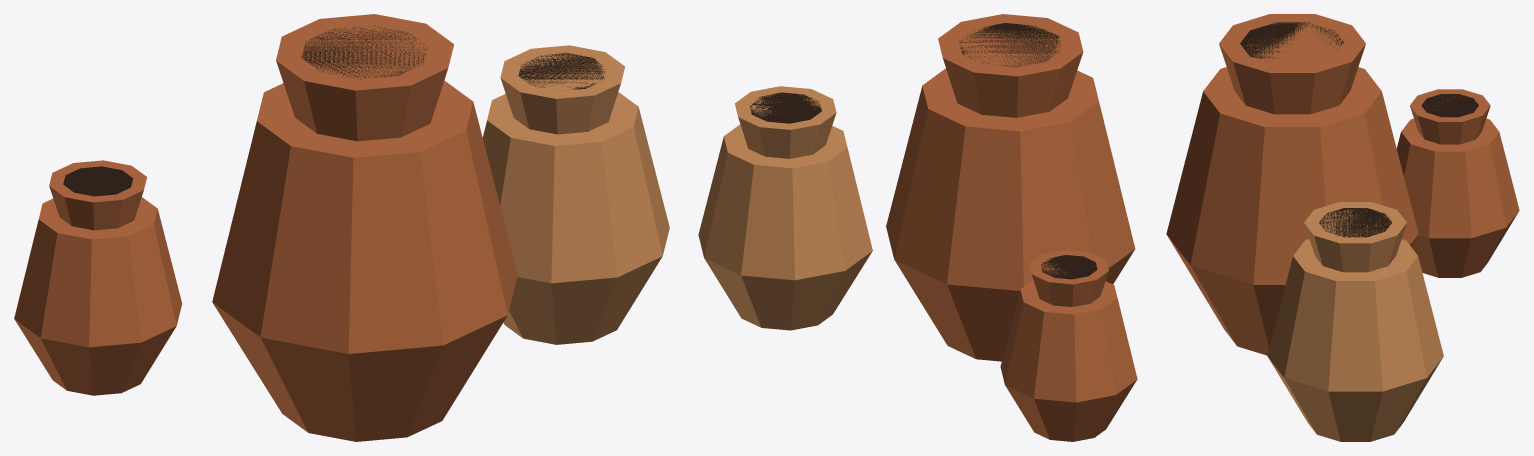
Rendered from pots.glb.
3 views of the same model, side by side, from view 1: azimuth 30°, elevation 25°; view 2: azimuth 150°, elevation 25°; view 3: azimuth 270°, elevation 25° (orthographic). The views are drawn at different scales.
Parts seen in each view (by area): view 1: pots; view 2: pots; view 3: pots.
Part boxes in pixels (box(x1,y1,x2,y2)): pots: box(14, 14, 669, 441); pots: box(698, 14, 1137, 441); pots: box(1166, 14, 1519, 441).
Size of the model in its own units: 1.01 by 0.6 by 0.672.
